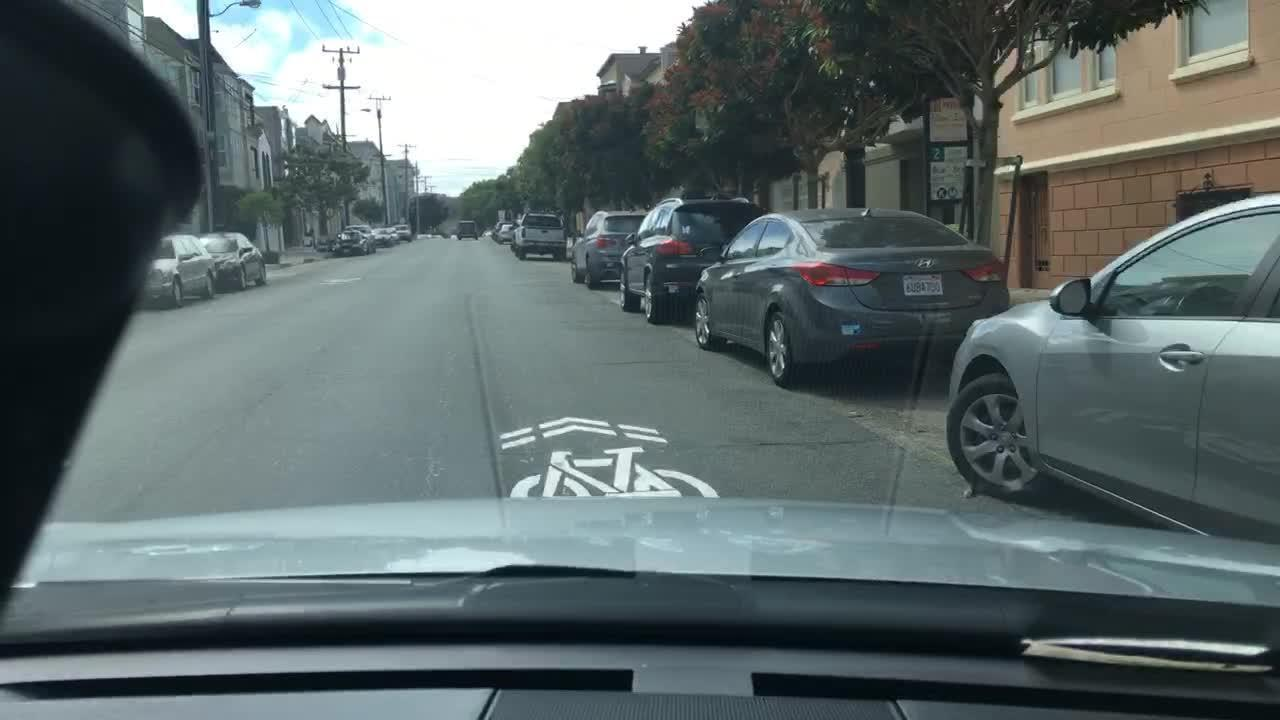Hyundai: (907, 251, 939, 276)
